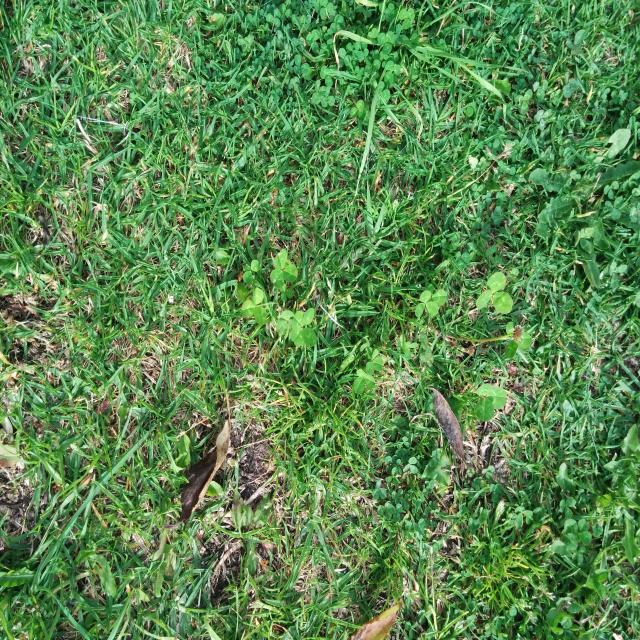Four Leaf Clover: (290, 308, 317, 347)
